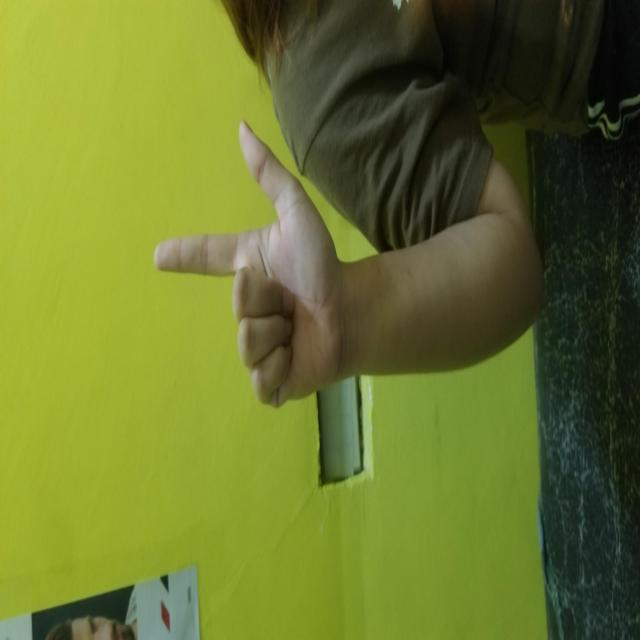L: (233, 152, 521, 340)
